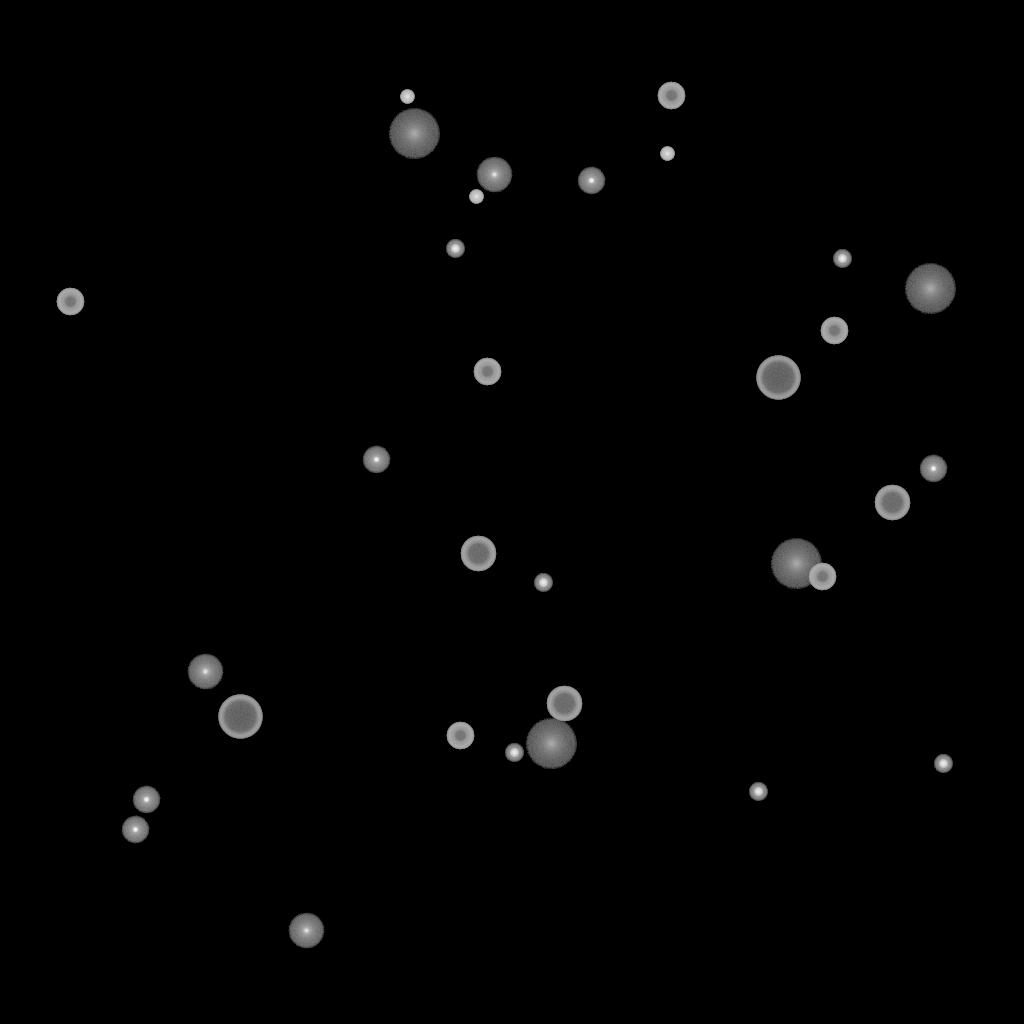depth:-10: (132, 786, 160, 814), (121, 816, 149, 844), (577, 167, 605, 195), (919, 455, 947, 483), (362, 446, 390, 474)
depth:-20: (749, 783, 767, 801), (833, 250, 851, 268), (934, 755, 952, 773), (534, 574, 552, 592), (446, 240, 464, 258), (505, 744, 523, 762)
depth:-30: (469, 190, 483, 204), (400, 90, 414, 104), (660, 147, 674, 161)
depth:-50: (56, 288, 84, 316), (473, 358, 501, 386), (657, 82, 685, 110), (808, 563, 836, 591), (446, 722, 474, 750), (820, 317, 848, 345)
depth:-60: (546, 686, 582, 722), (460, 536, 496, 572), (874, 485, 910, 521)
depth:-70: (756, 356, 800, 400), (218, 695, 262, 739)
depth:0: (187, 654, 223, 690), (476, 157, 512, 193), (288, 913, 324, 949)
depth:20: (388, 109, 440, 159), (525, 719, 577, 769), (770, 539, 822, 589), (904, 264, 956, 314)
